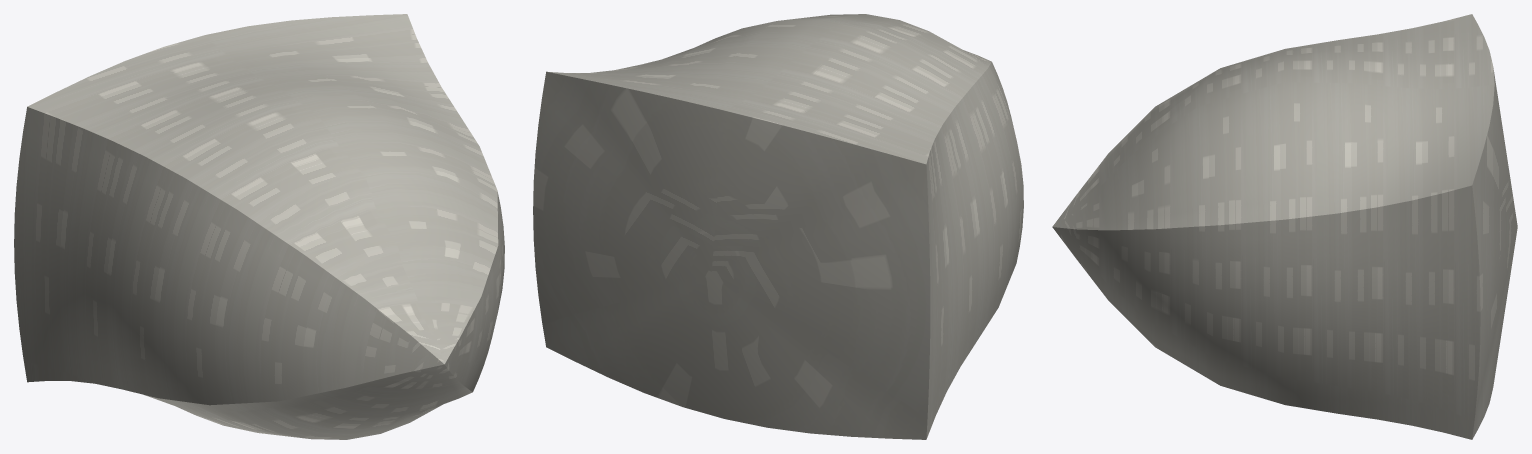
Rendered from doodad-01.obj.
The picture shows the model from 3 angles, left to right: view 1: azimuth 30°, elevation 25°; view 2: azimuth 150°, elevation 25°; view 3: azimuth 270°, elevation 25°; orthographic projection. The views are drawn at different scales.
Parts seen in each view (by area): view 1: Pyramid001; view 2: Pyramid001; view 3: Pyramid001.
Part boxes in pixels (x1,y1,x2,y2): Pyramid001: [14, 14, 504, 439]; Pyramid001: [533, 14, 1023, 439]; Pyramid001: [1052, 14, 1517, 439].
Size of the model in its own units: 59.7 by 45.19 by 65.57.
